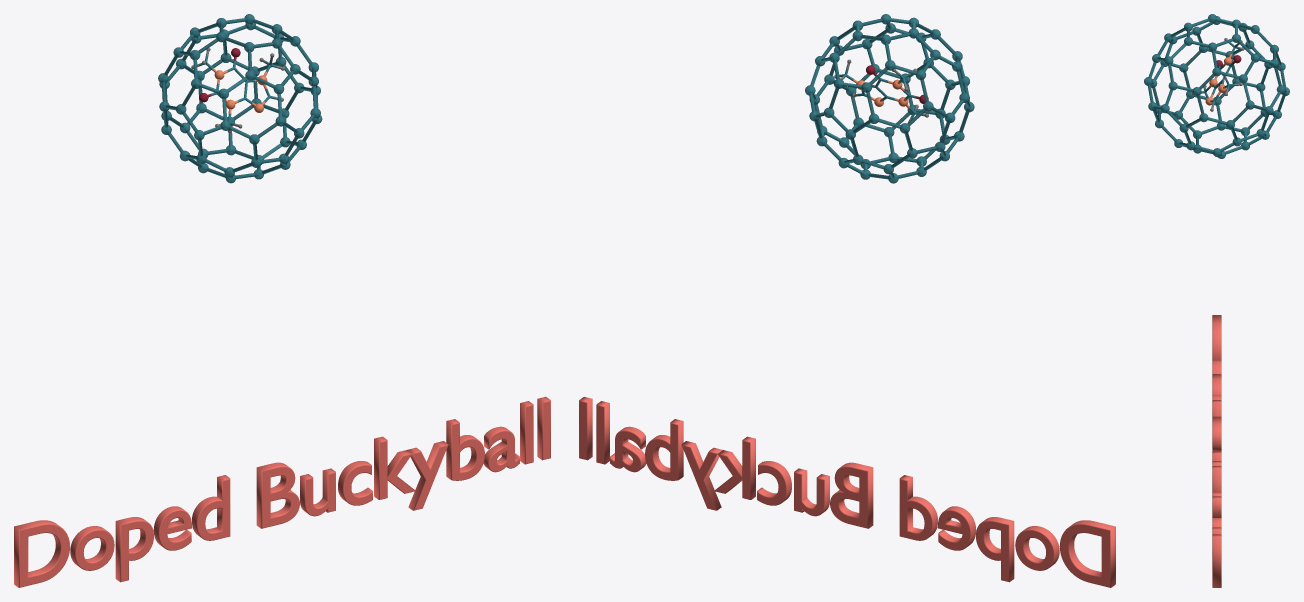
3 renders of one model, left to right at view 1: azimuth 30°, elevation 25°; view 2: azimuth 150°, elevation 25°; view 3: azimuth 270°, elevation 25°, orthographic. The views are drawn at different scales.
Visible parts, largest first — view 1: Text, buckyball model, caffiene; view 2: Text, buckyball model, caffiene; view 3: buckyball model, Text, caffiene.
Part boxes in pixels (x1,y1,x2,y2): Text: (14,396,550,587); buckyball model: (158,14,322,183); caffiene: (197,48,281,130); Text: (579,397,1115,587); buckyball model: (805,14,974,183); caffiene: (839,63,928,123); buckyball model: (1144,14,1289,158); Text: (1212,315,1221,587); caffiene: (1201,39,1242,108).
Size of the model in its own units: 6.73 by 6.36 by 1.86.
